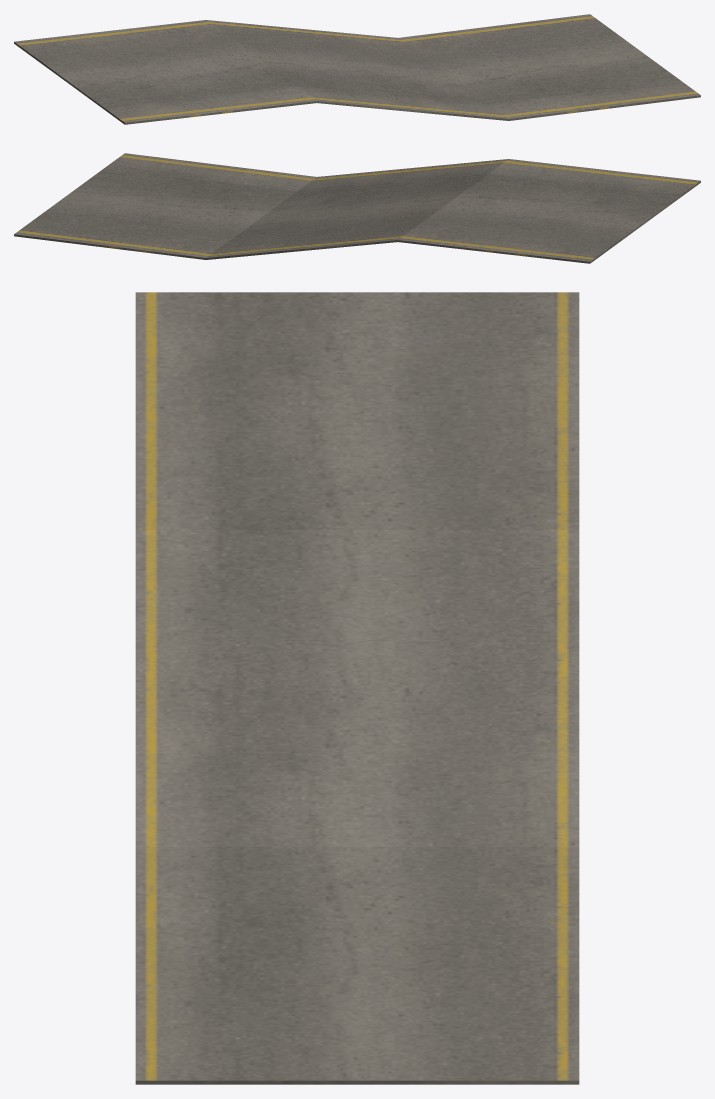
File: Urban_Road2SlopeNoSides_Model.fbx
3 views of the same model, one above another, from view 1: azimuth 30°, elevation 25°; view 2: azimuth 150°, elevation 25°; view 3: azimuth 270°, elevation 25° (orthographic). The views are drawn at different scales.
Visible parts, largest first — view 1: Urban_Road2SlopeNoSides_Mesh; view 2: Urban_Road2SlopeNoSides_Mesh; view 3: Urban_Road2SlopeNoSides_Mesh.
Part boxes in pixels (x1,y1,x2,y2): Urban_Road2SlopeNoSides_Mesh: [14, 14, 700, 124]; Urban_Road2SlopeNoSides_Mesh: [14, 153, 700, 263]; Urban_Road2SlopeNoSides_Mesh: [135, 292, 579, 1084].
Bounding box in the file's own units: 48 × 9.16 × 16.
